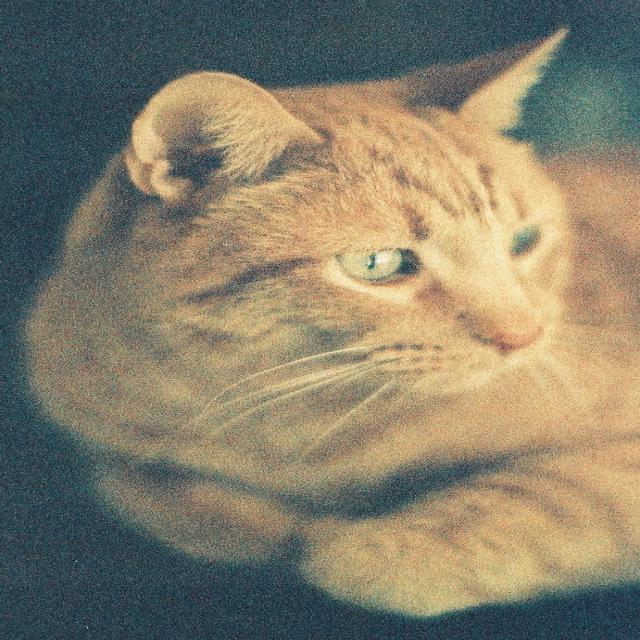Cat: (17, 12, 628, 635)
